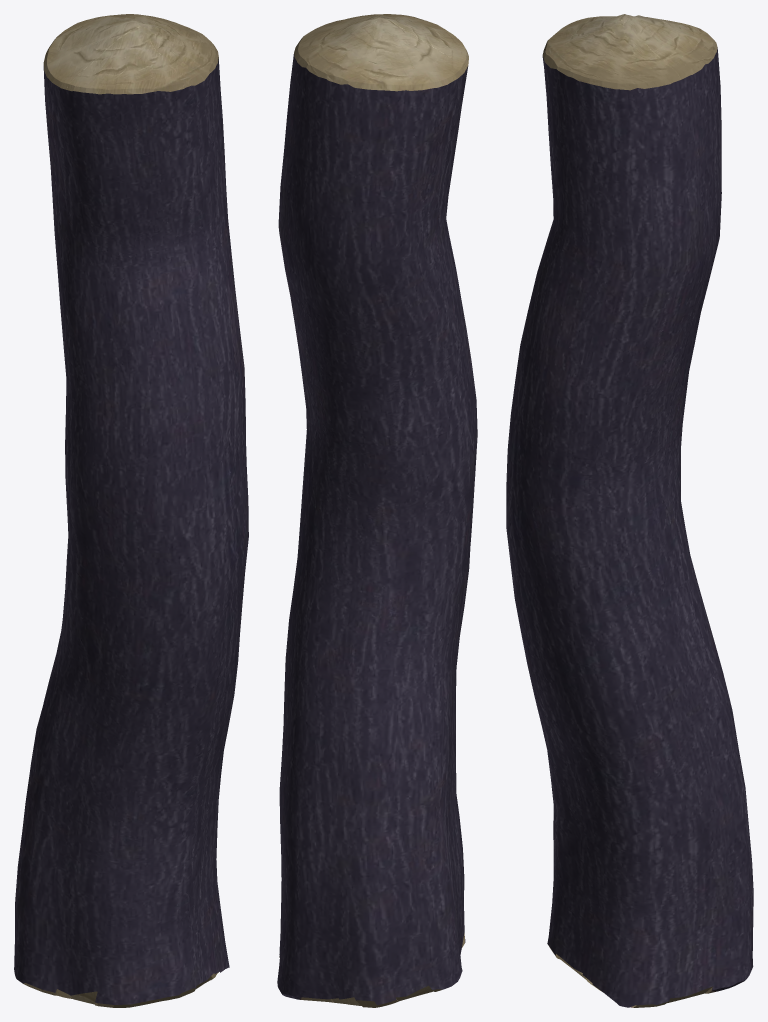
3 renders of one model, left to right at view 1: azimuth 30°, elevation 25°; view 2: azimuth 150°, elevation 25°; view 3: azimuth 270°, elevation 25°, orthographic. The views are drawn at different scales.
Parts seen in each view (by area): view 1: SM_FH_Oak_Tree_02_half_bottom_LOD0; view 2: SM_FH_Oak_Tree_02_half_bottom_LOD0; view 3: SM_FH_Oak_Tree_02_half_bottom_LOD0.
Boxes of the visible parts, x1=… form: SM_FH_Oak_Tree_02_half_bottom_LOD0: x1=14, y1=14, x2=248, y2=1007; SM_FH_Oak_Tree_02_half_bottom_LOD0: x1=277, y1=14, x2=477, y2=1007; SM_FH_Oak_Tree_02_half_bottom_LOD0: x1=506, y1=14, x2=753, y2=1007.
Bounding box in the file's own units: 1.11 × 5.56 × 1.29.
1 material, 1 textured.
